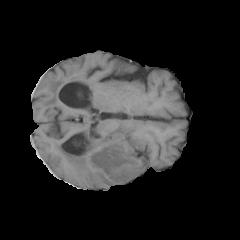glioma: (42, 85, 156, 185)
